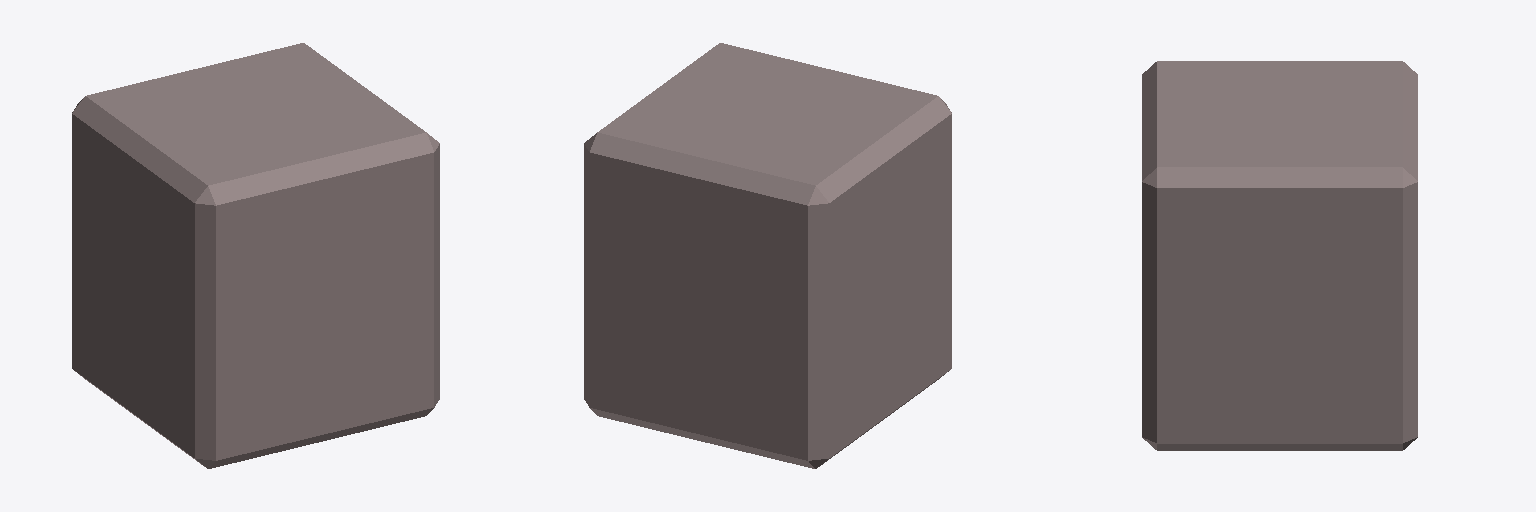
Rendered from green_cube.obj.
The picture shows the model from 3 angles: view 1: azimuth 30°, elevation 25°; view 2: azimuth 150°, elevation 25°; view 3: azimuth 270°, elevation 25°; orthographic projection.
Visible parts, largest first — view 1: Cubo_Glass.001; view 2: Cubo_Glass.001; view 3: Cubo_Glass.001.
Part boxes in pixels (x1,y1,x2,y2): Cubo_Glass.001: (72,43,439,468); Cubo_Glass.001: (584,43,951,468); Cubo_Glass.001: (1142,61,1417,450).
Bounding box in the file's own units: 1.99 × 2.19 × 1.94.